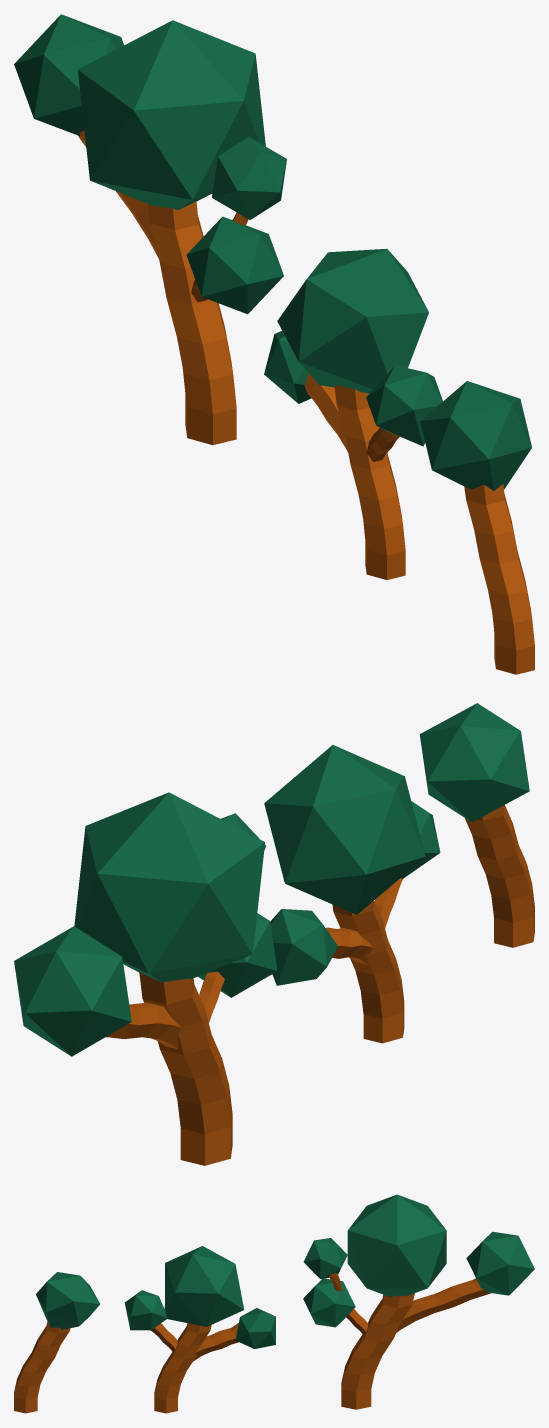
The model's file is Arvore.fbx.
3 renders of one model, top to bottom at view 1: azimuth 30°, elevation 25°; view 2: azimuth 150°, elevation 25°; view 3: azimuth 270°, elevation 25°, orthographic. The views are drawn at different scales.
Visible parts, largest first — view 1: 03_Arvore, 02_Arvore, 01_Arvore; view 2: 03_Arvore, 02_Arvore, 01_Arvore; view 3: 03_Arvore, 02_Arvore, 01_Arvore.
Boxes of the visible parts, x1,y1,x2,y2 form: 03_Arvore: [14, 14, 286, 445]; 02_Arvore: [264, 248, 442, 579]; 01_Arvore: [420, 381, 534, 674]; 03_Arvore: [14, 792, 277, 1165]; 02_Arvore: [264, 745, 440, 1043]; 01_Arvore: [419, 703, 534, 947]; 03_Arvore: [303, 1194, 534, 1409]; 02_Arvore: [124, 1246, 275, 1413]; 01_Arvore: [14, 1272, 99, 1413].
Bounding box in the file's own units: 352 × 801 × 1766.
